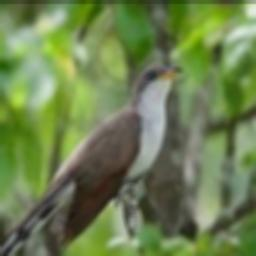Cuckoo: (0, 64, 182, 256)
